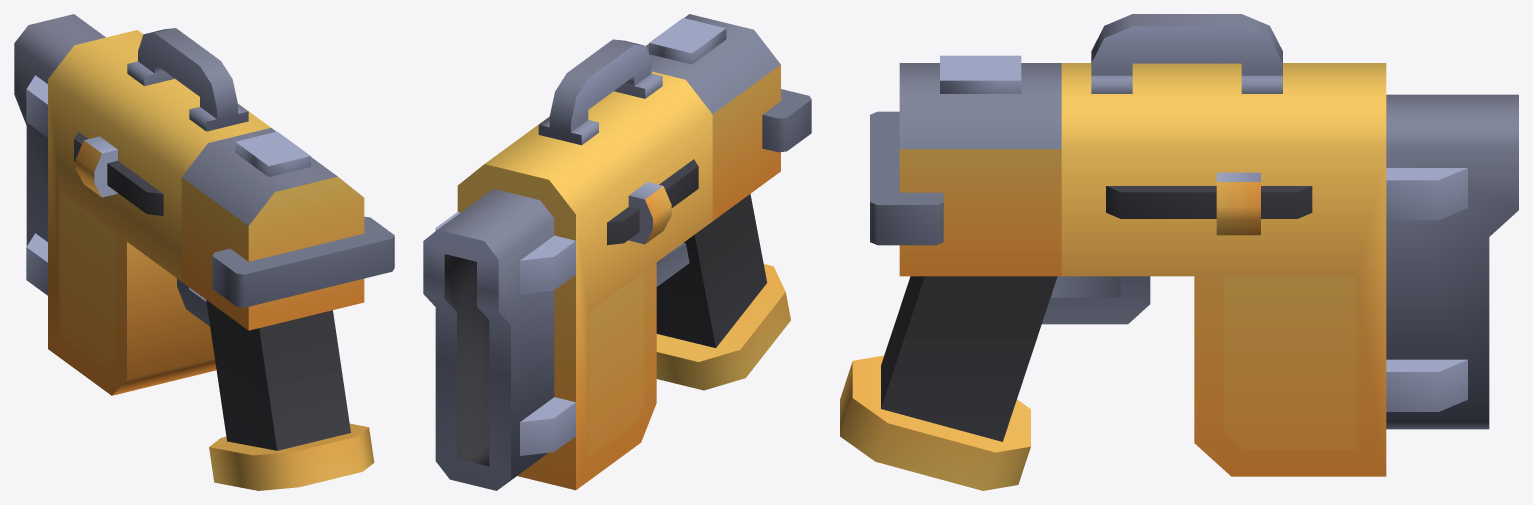
File: gun-flick.glb
The picture shows the model from 3 angles, left to right: view 1: azimuth 30°, elevation 25°; view 2: azimuth 150°, elevation 25°; view 3: azimuth 270°, elevation 25°; orthographic projection. The views are drawn at different scales.
Visible parts, largest first — view 1: blaster-k; view 2: blaster-k; view 3: blaster-k.
Boxes of the visible parts, left/top/right/bottom form: blaster-k: left=14, top=14, right=394, bottom=490; blaster-k: left=423, top=14, right=811, bottom=490; blaster-k: left=840, top=14, right=1518, bottom=490.
Size of the model in its own units: 0.155 by 0.3338 by 0.4604.
Materials: 1 (1 with a texture image).
